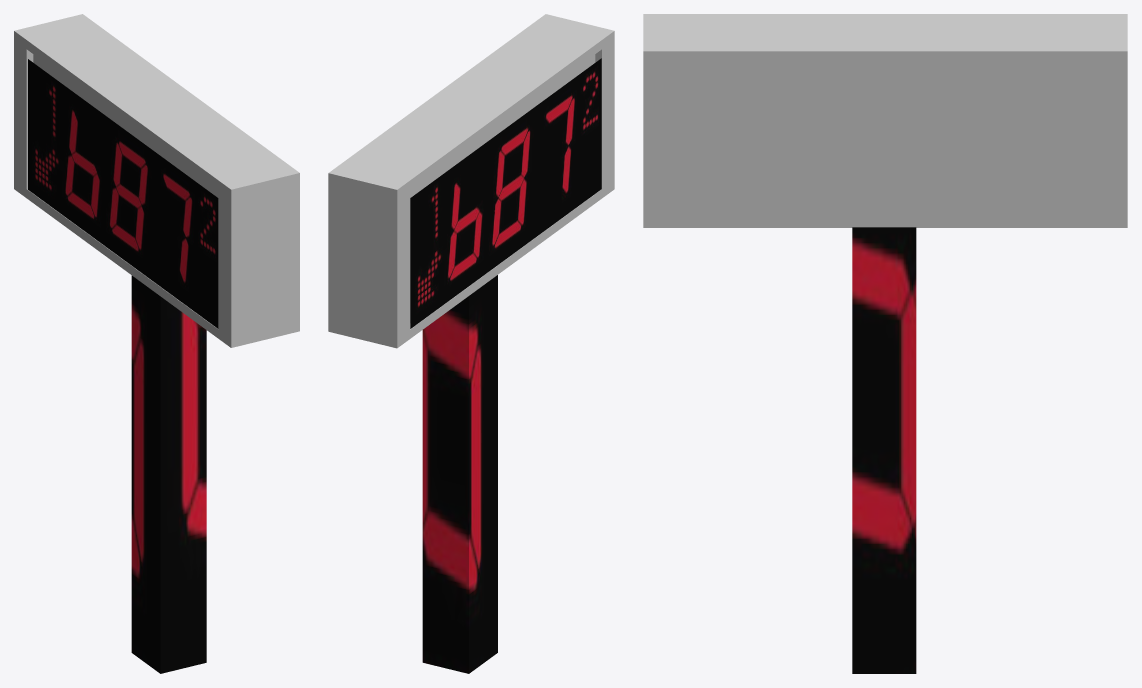
File: number_call.fbx
3 renders of one model, left to right at view 1: azimuth 30°, elevation 25°; view 2: azimuth 150°, elevation 25°; view 3: azimuth 270°, elevation 25°, orthographic. The views are drawn at different scales.
Parts seen in each view (by area): view 1: Empty.001; view 2: Empty.001; view 3: Empty.001.
Boxes of the visible parts, x1,y1,x2,y2 form: Empty.001: (14, 14, 299, 673); Empty.001: (328, 14, 614, 673); Empty.001: (643, 14, 1127, 673).
Bounding box in the file's own units: 34.82 × 268 × 189.
Materials: 2 (1 with a texture image).
